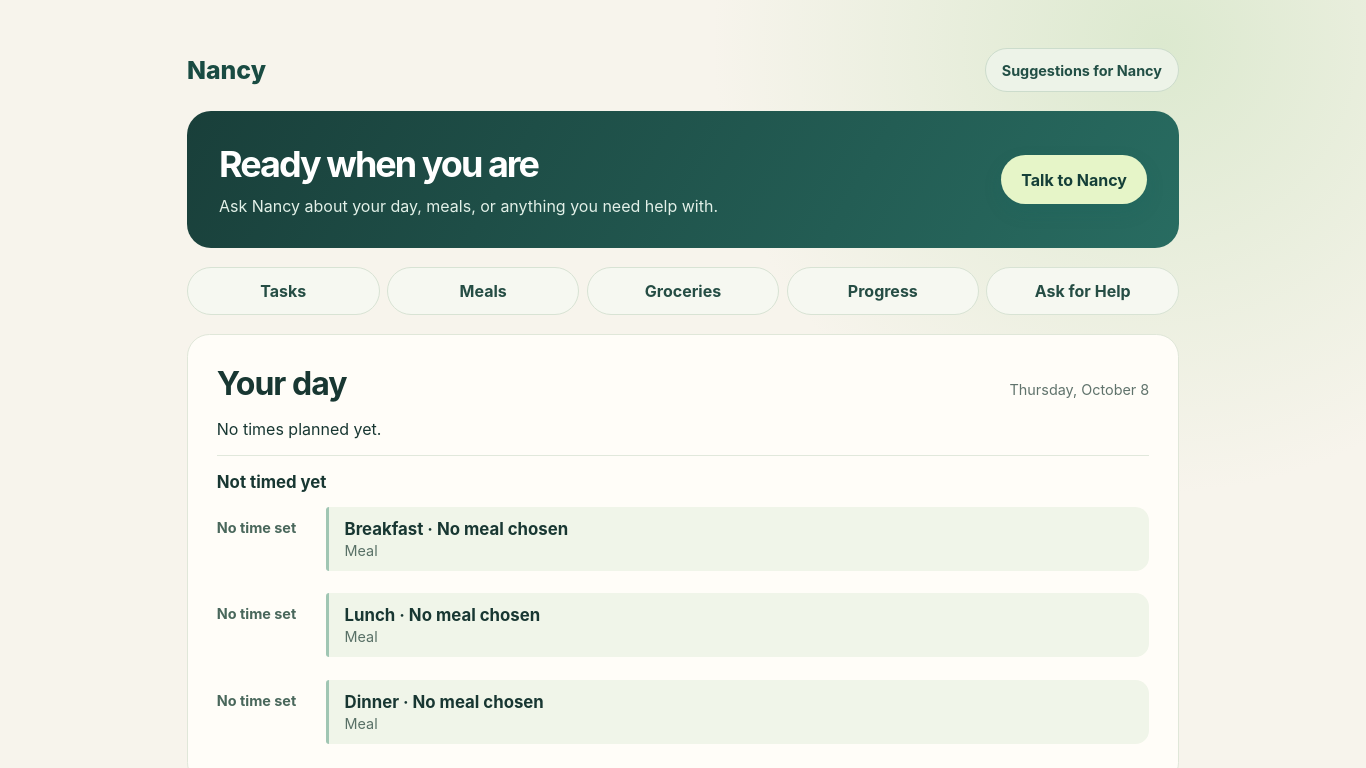
Test case: role-bound request app integration › uses one ongoing client conversation across the simplified client views without exposing the request forms
Click the button "Talk to Nancy" at (1074, 180), box [1001,155,1147,204]
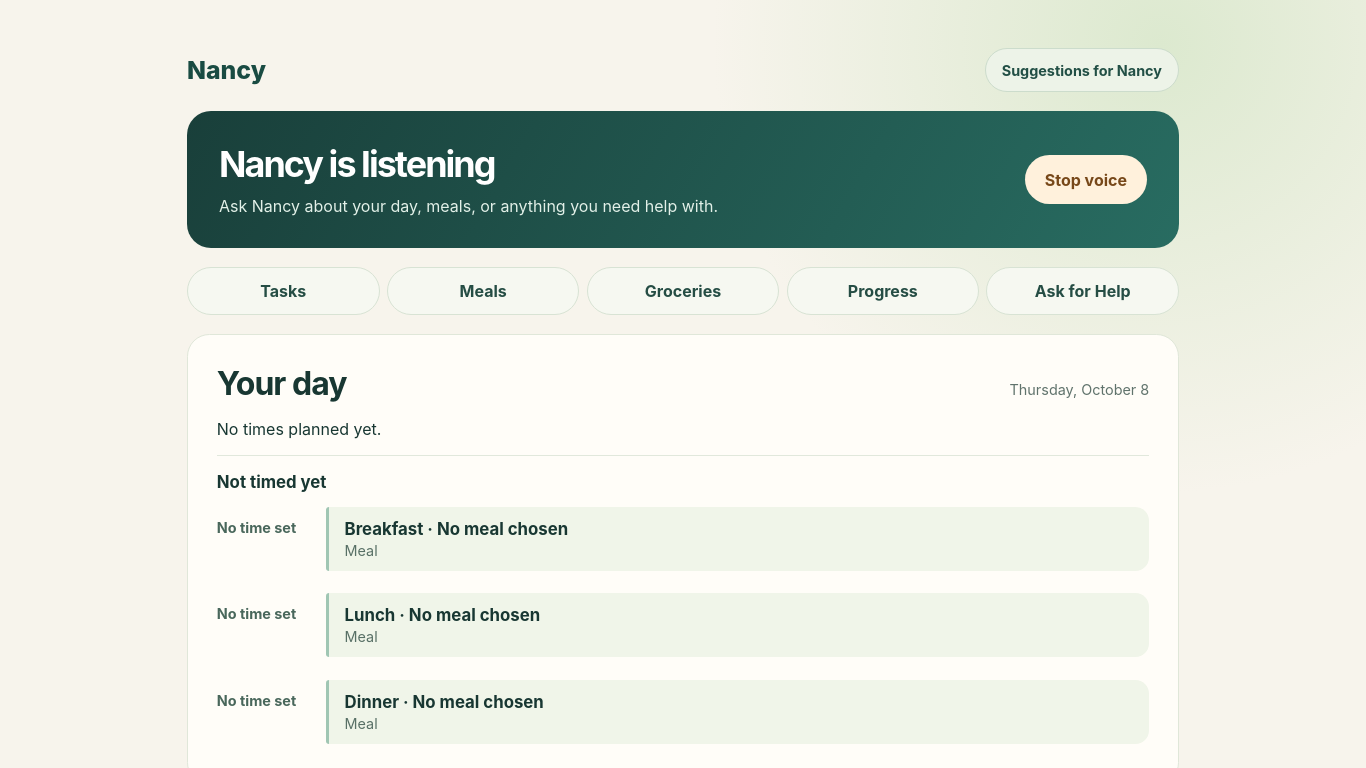
Now the button "Stop voice" is shown, box [1025,155,1147,204]
Click the button "Ask for Help" at (1083, 291), box [986,267,1179,315]
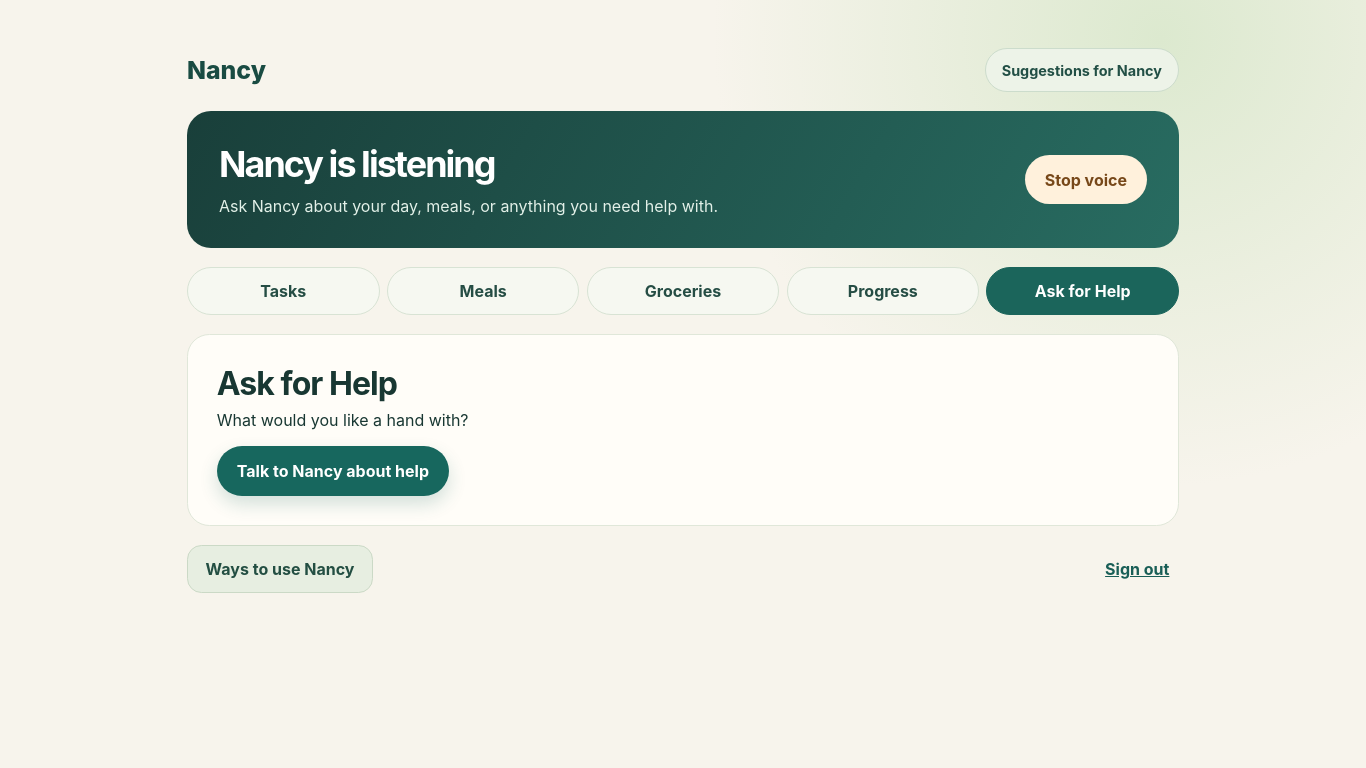
Now the heading "Ask for Help" is shown, box [217,364,397,403]
Click the button "Tasks" at (283, 291), box [187,267,380,315]
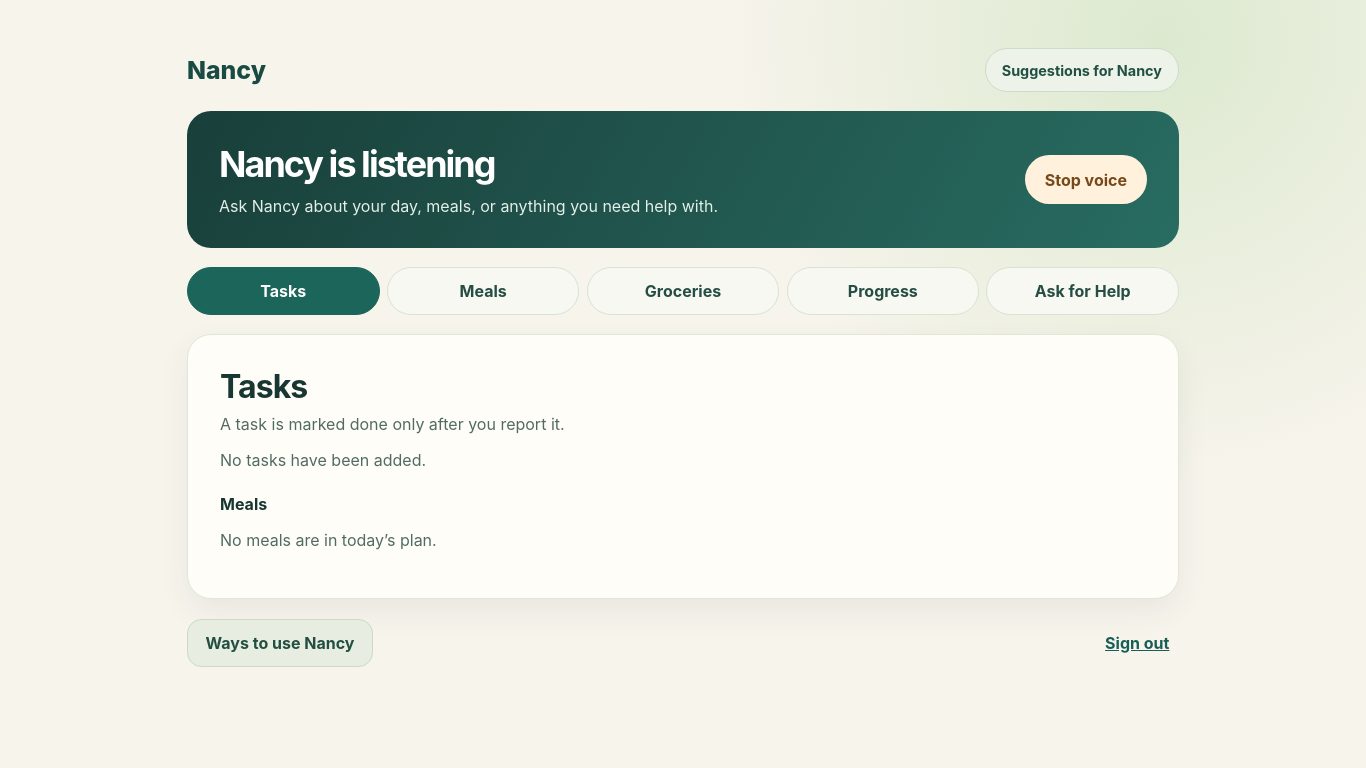
Click the button "Ask for Help" at (1083, 291), box [986,267,1179,315]
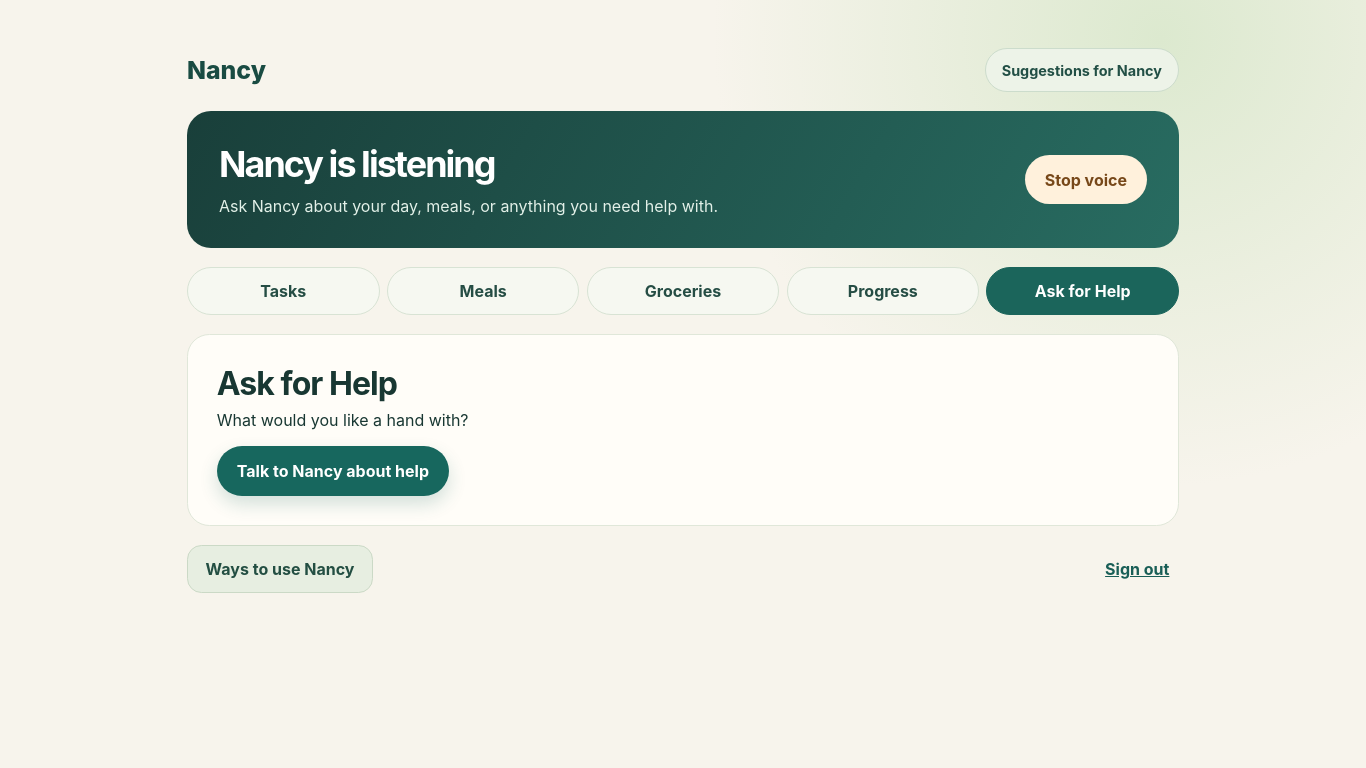
Now the heading "Ask for Help" is shown, box [217,364,397,403]
